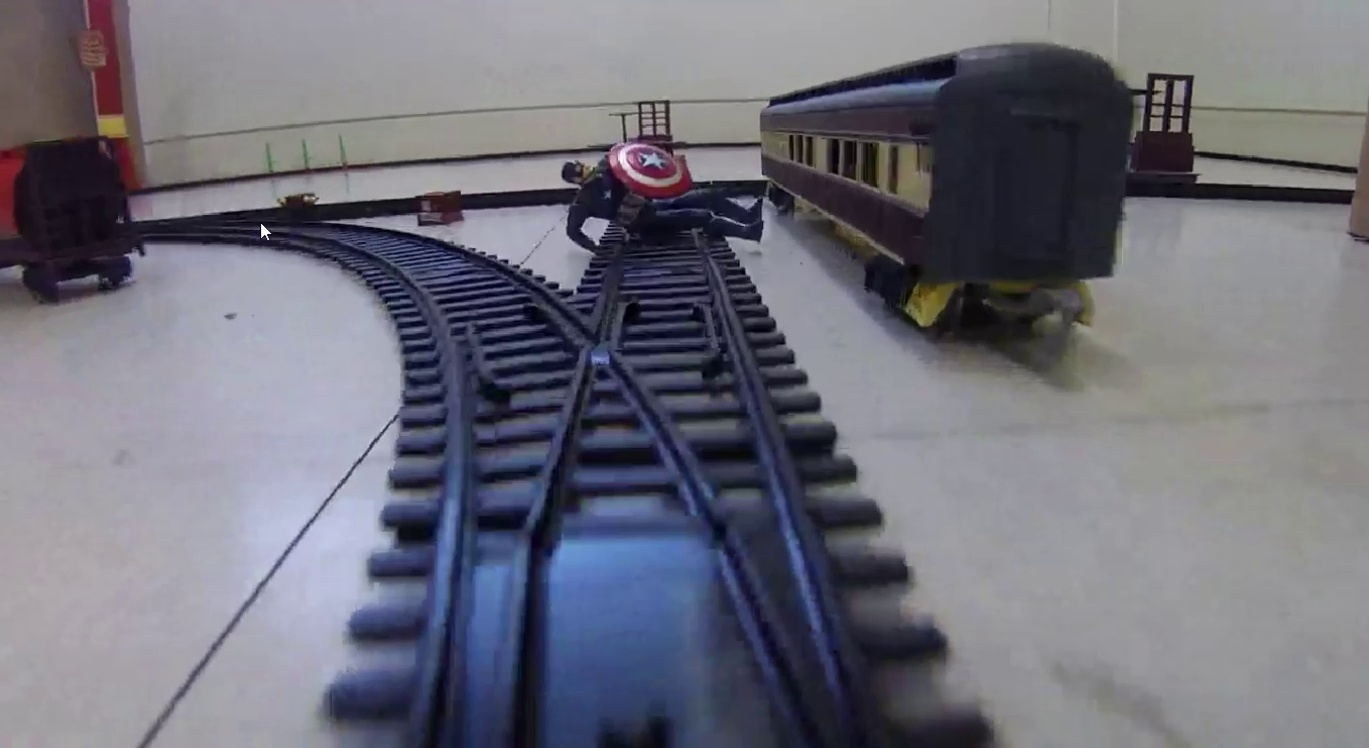box: (417, 191, 461, 226)
people: (564, 142, 764, 251)
